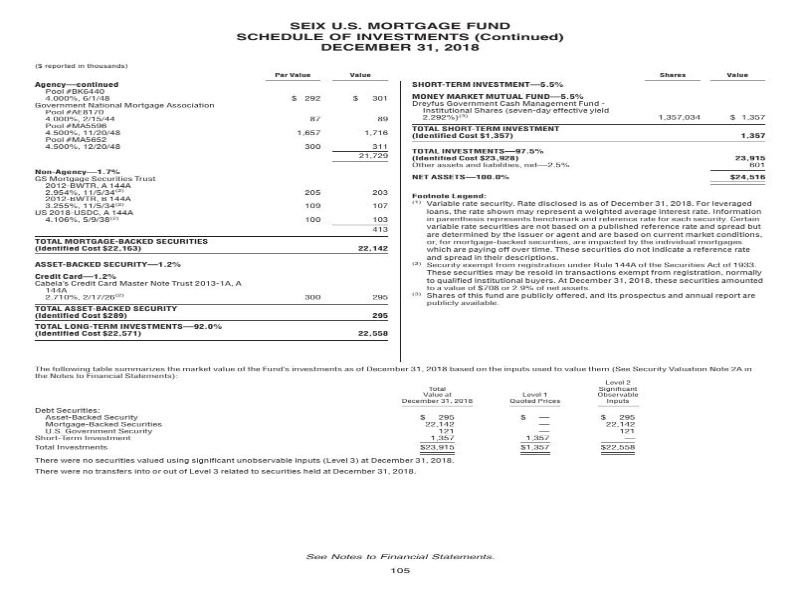table: (17, 52, 408, 363), (22, 375, 695, 483), (394, 67, 796, 193)
